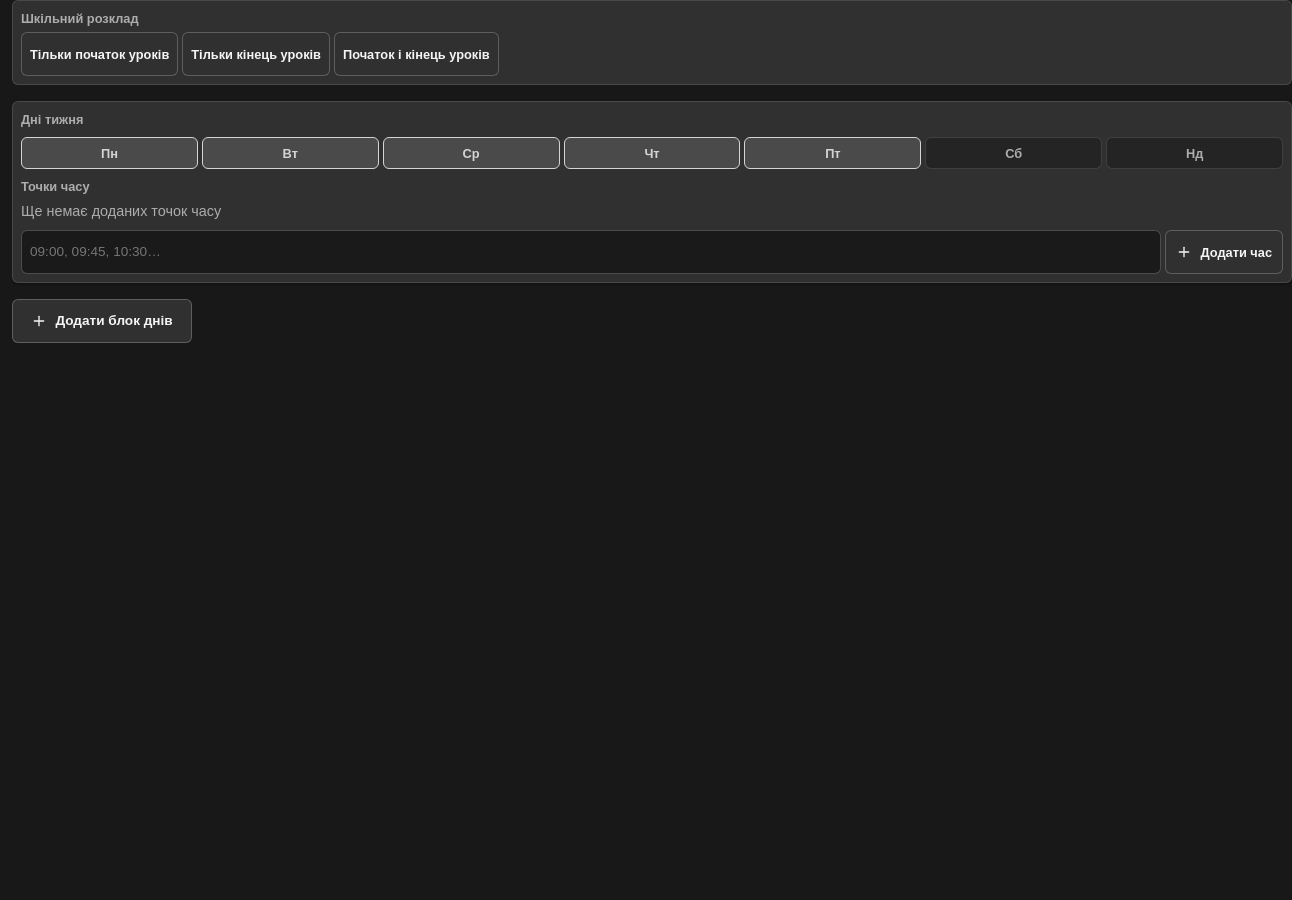
Test case: ScheduleEditor › застосовує пресет "тільки кінець уроків"
Click the button with test id "schedule-preset-end-btn". click: coordinates (256, 54)
box: [182, 32, 330, 76]
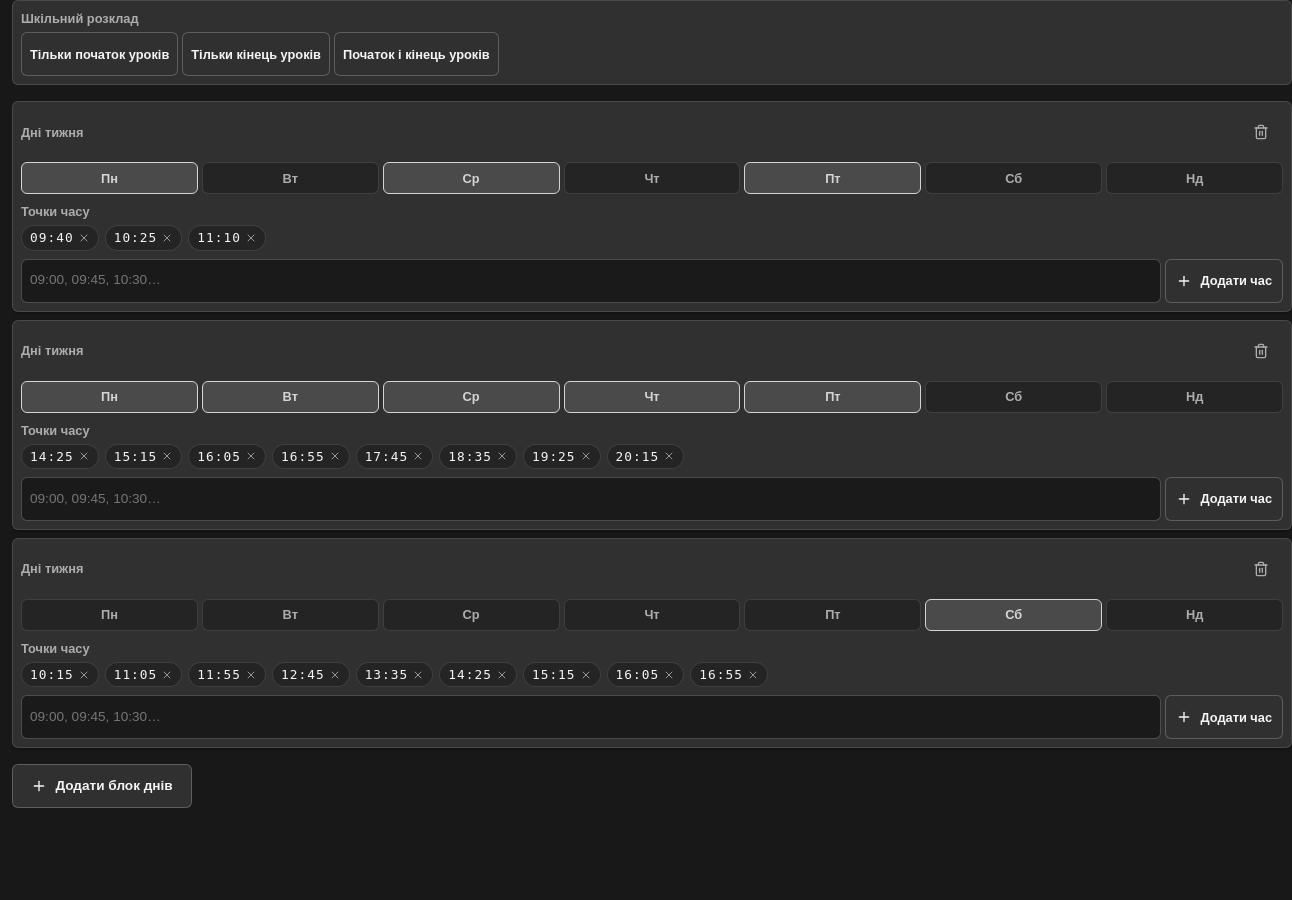
Expected: the element with test id "-card" shows "09:40", [30, 230, 74, 245]
Expected: the element with test id "-card" shows "10:25", [114, 230, 157, 245]
Expected: the element with test id "-card" shows "11:10", [197, 230, 241, 245]
